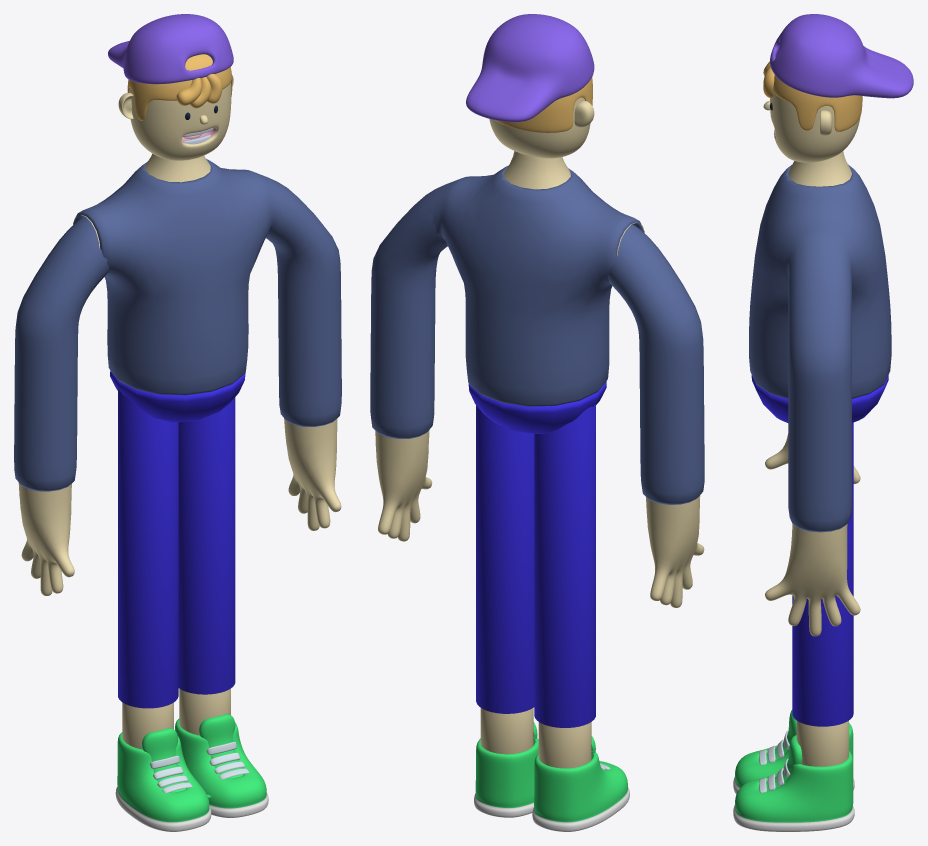
The model's file is Player_arms_down.fbx.
3 views of the same model, side by side, from view 1: azimuth 30°, elevation 25°; view 2: azimuth 150°, elevation 25°; view 3: azimuth 270°, elevation 25° (orthographic). The views are drawn at different scales.
Parts seen in each view (by area): view 1: Jumper, Trousers Legs, Jumper.001, Shoe, Hat, Torso, Head, Torso.001, Trousers, Cube.001, Hair, Fringe3; view 2: Jumper, Trousers Legs, Jumper.001, Hat, Shoe, Torso, Torso.001, Trousers, Head, Hair; view 3: Jumper, Trousers Legs, Hat, Shoe, Torso, Head, Hair, Trousers, Cube.001, Torso.001.
Part boxes in pixels (x1=…): Jumper: x1=73, y1=159, x2=341, y2=426; Trousers Legs: x1=118, y1=389, x2=235, y2=749; Jumper.001: x1=14, y1=198, x2=307, y2=491; Shoe: x1=115, y1=718, x2=268, y2=831; Hat: x1=108, y1=14, x2=233, y2=84; Torso: x1=73, y1=153, x2=341, y2=530; Head: x1=129, y1=82, x2=231, y2=160; Torso.001: x1=18, y1=482, x2=74, y2=595; Trousers: x1=110, y1=371, x2=245, y2=422; Cube.001: x1=142, y1=714, x2=243, y2=792; Hair: x1=127, y1=54, x2=232, y2=120; Fringe3: x1=176, y1=74, x2=222, y2=108; Jumper: x1=370, y1=165, x2=643, y2=438; Trousers Legs: x1=476, y1=404, x2=595, y2=768; Jumper.001: x1=405, y1=205, x2=704, y2=504; Hat: x1=466, y1=14, x2=594, y2=122; Shoe: x1=474, y1=737, x2=629, y2=831; Torso: x1=375, y1=151, x2=644, y2=541; Torso.001: x1=646, y1=495, x2=704, y2=607; Trousers: x1=468, y1=381, x2=606, y2=433; Head: x1=489, y1=97, x2=590, y2=158; Hair: x1=495, y1=77, x2=592, y2=132; Jumper: x1=749, y1=164, x2=891, y2=532; Trousers Legs: x1=792, y1=422, x2=853, y2=766; Hat: x1=770, y1=14, x2=913, y2=98; Shoe: x1=733, y1=723, x2=854, y2=831; Torso: x1=765, y1=151, x2=860, y2=636; Head: x1=770, y1=93, x2=860, y2=162; Hair: x1=773, y1=55, x2=862, y2=131; Trousers: x1=751, y1=375, x2=888, y2=422; Cube.001: x1=759, y1=710, x2=802, y2=790; Torso.001: x1=765, y1=433, x2=860, y2=483.
Size of the model in its own units: 113 by 262 by 54.8.
